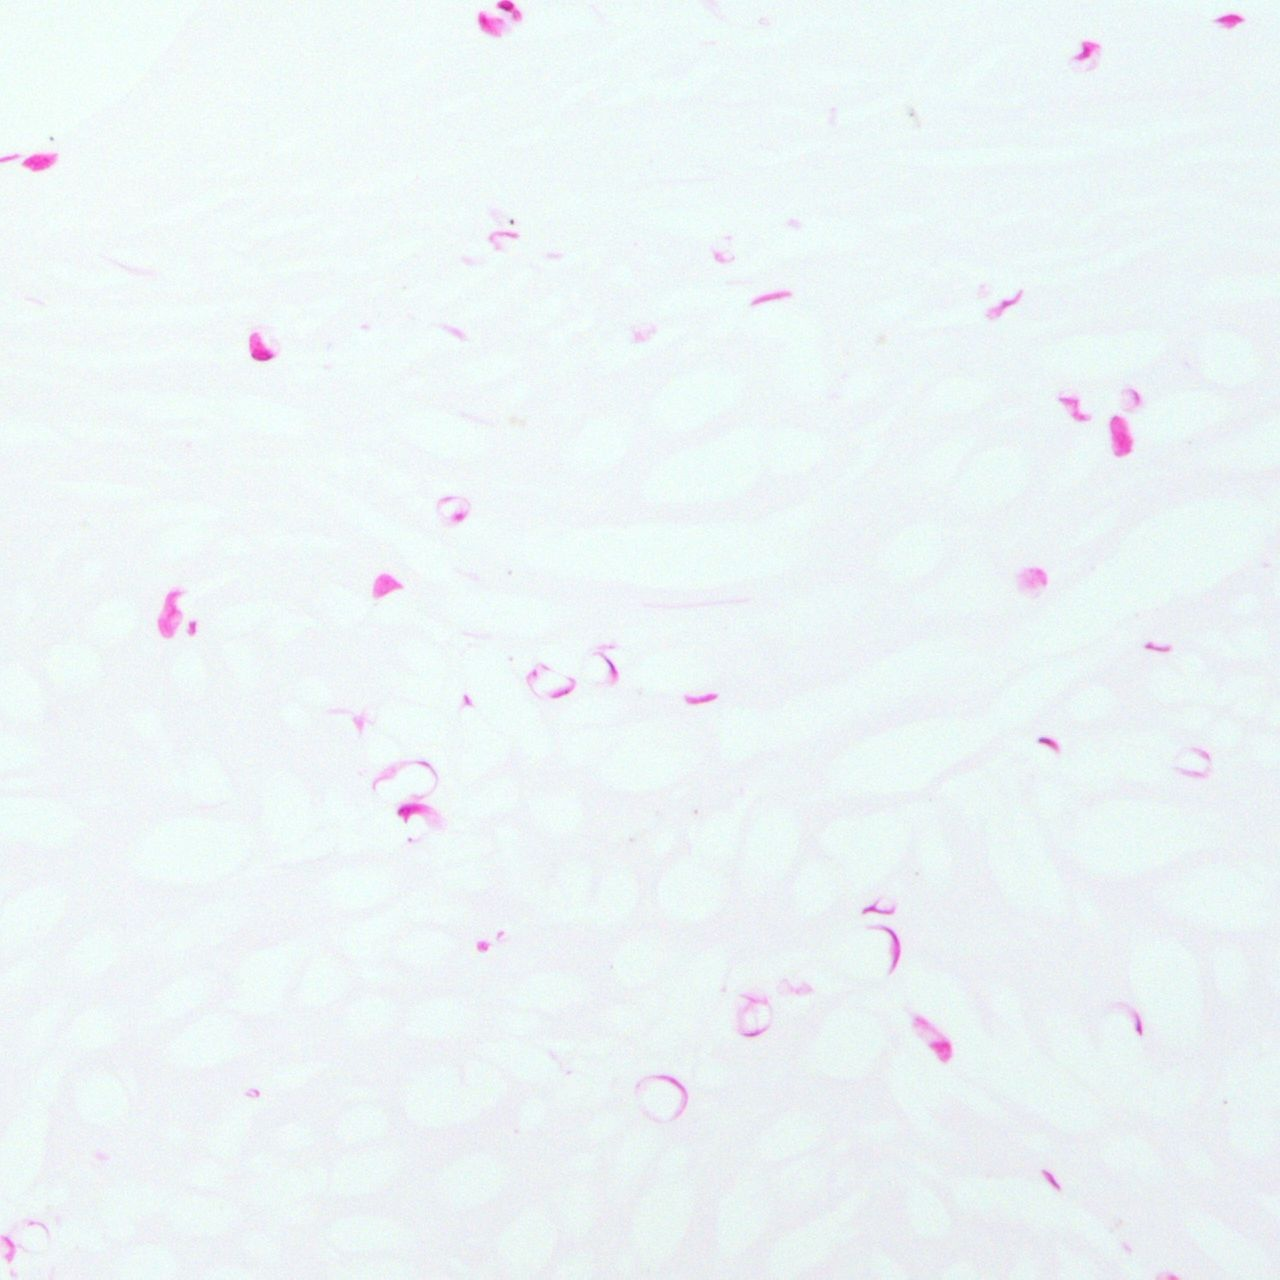dust: (509, 218, 515, 225)
nucleus-FG: (1107, 414, 1133, 456), (1034, 730, 1062, 754)
